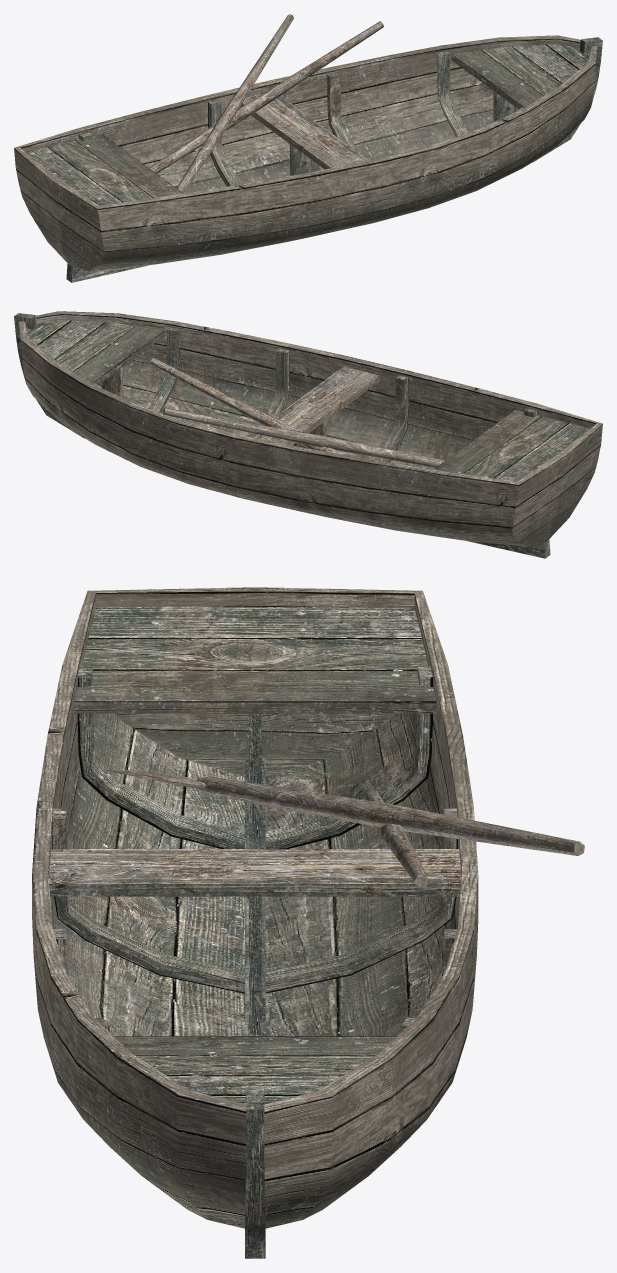
The model's file is Boat1.fbx.
The picture shows the model from 3 angles, top to bottom: view 1: azimuth 30°, elevation 25°; view 2: azimuth 150°, elevation 25°; view 3: azimuth 270°, elevation 25°; orthographic projection. The views are drawn at different scales.
Visible parts, largest first — view 1: polySurface1018; view 2: polySurface1018; view 3: polySurface1018.
Part boxes in pixels (x1,y1,x2,y2): polySurface1018: (14,14,602,282); polySurface1018: (14,311,602,558); polySurface1018: (32,587,584,1258).
Size of the model in its own units: 5.41 by 1.39 by 2.35.
